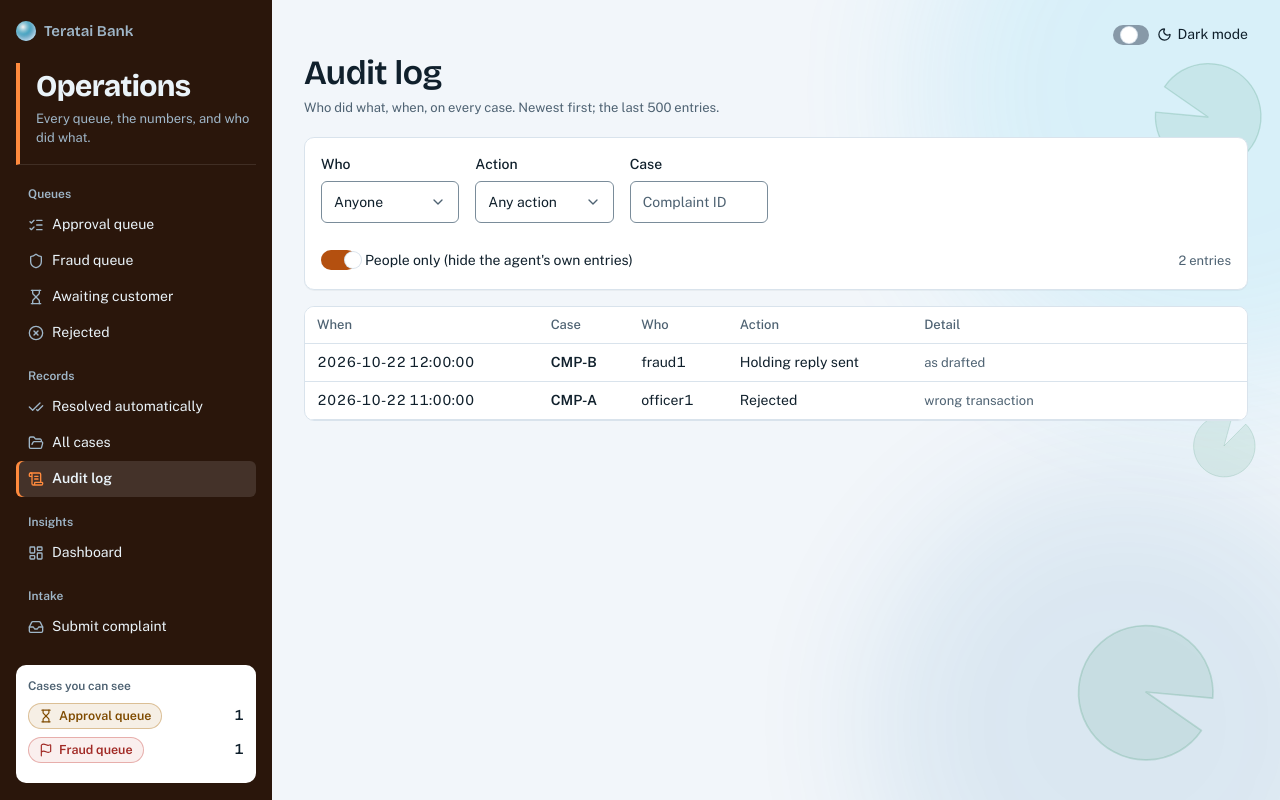
audit log › filters by case
Check: the table named "Audit log, newest first" is shown, box [305, 307, 1247, 420]
Type "CMP-B" into the search field labelled "Case" at (699, 202), box [630, 181, 768, 223]
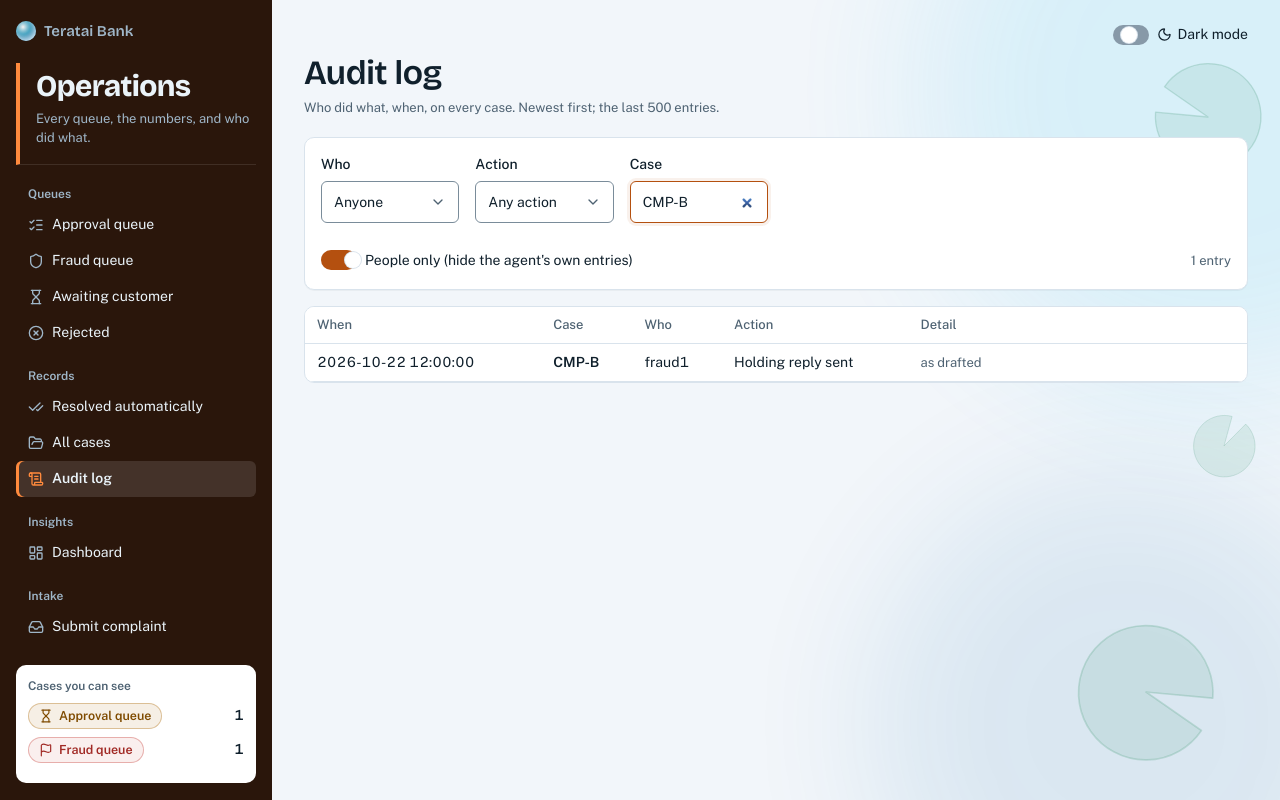
Check: the cell "CMP-B" is shown, box [541, 343, 632, 381]
Check: the text "1 entry" is shown, box [1191, 250, 1231, 270]
